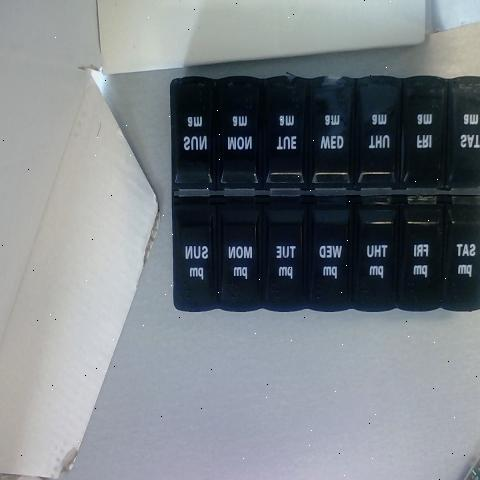FRI-am: (401, 82, 445, 189)
FRI-pm: (398, 206, 437, 304)
MON-am: (219, 83, 263, 183)
MON-pm: (225, 204, 261, 306)
SAT-am: (449, 83, 480, 192)
SAT-pm: (443, 206, 480, 308)
SUN-am: (174, 90, 214, 188)
SUN-pm: (176, 202, 214, 313)
THU-am: (355, 84, 396, 189)
THU-pm: (355, 203, 394, 307)
TUE-am: (268, 89, 303, 190)
TUE-pm: (267, 208, 304, 310)
WED-am: (310, 84, 350, 189)
WED-pm: (308, 206, 348, 308)
